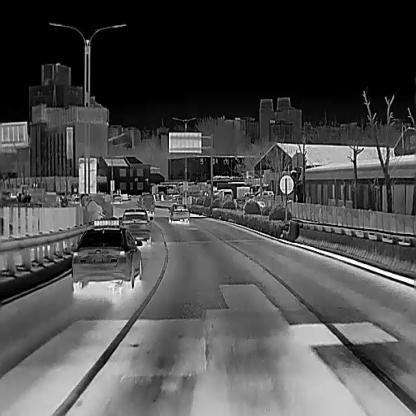car: (71, 220, 143, 293), (120, 206, 153, 245), (167, 202, 190, 224), (138, 193, 154, 213), (112, 192, 121, 204)
